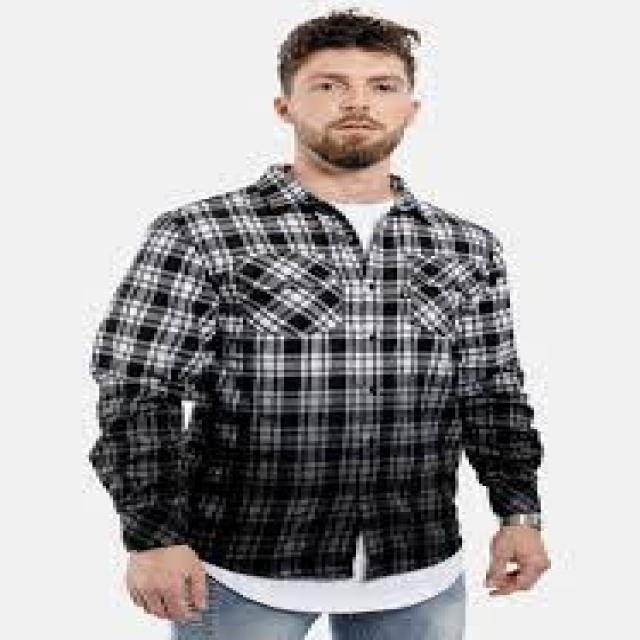plaid: (98, 152, 537, 562)
